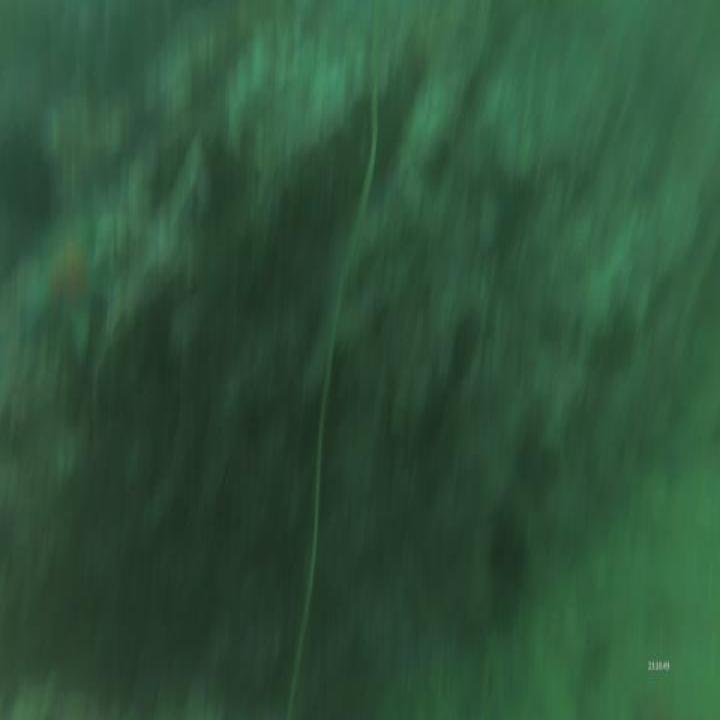starfish: (23, 226, 116, 375)
